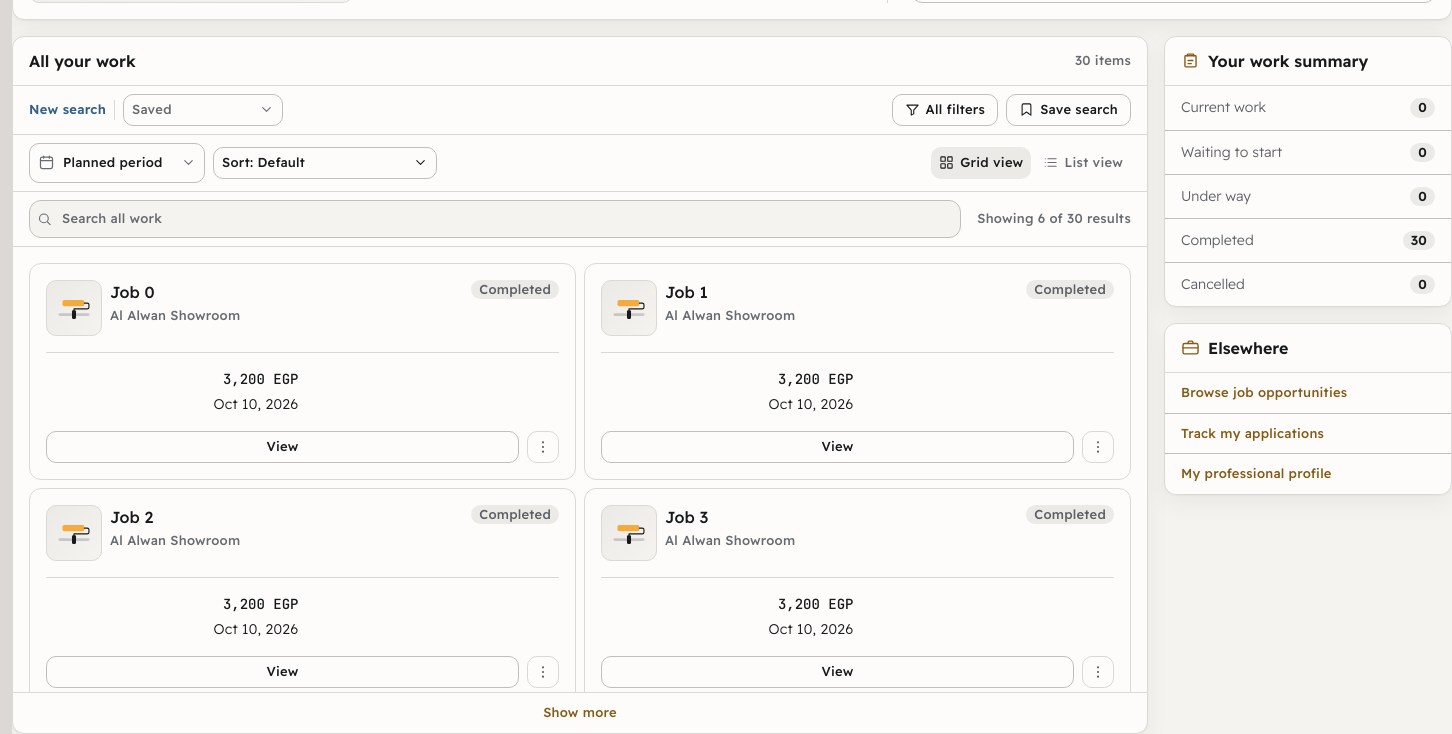
production My Work — one approved presentation, only real capabilities › REAL paged append — the next page of the same question, loaded and appended › Show less drops the last appended page, and is absent at the first page
This screenshot has width=1452, height=734.
(page scrolled)
Click the button "Show more" at (580, 713), box [13,693,1147,733]
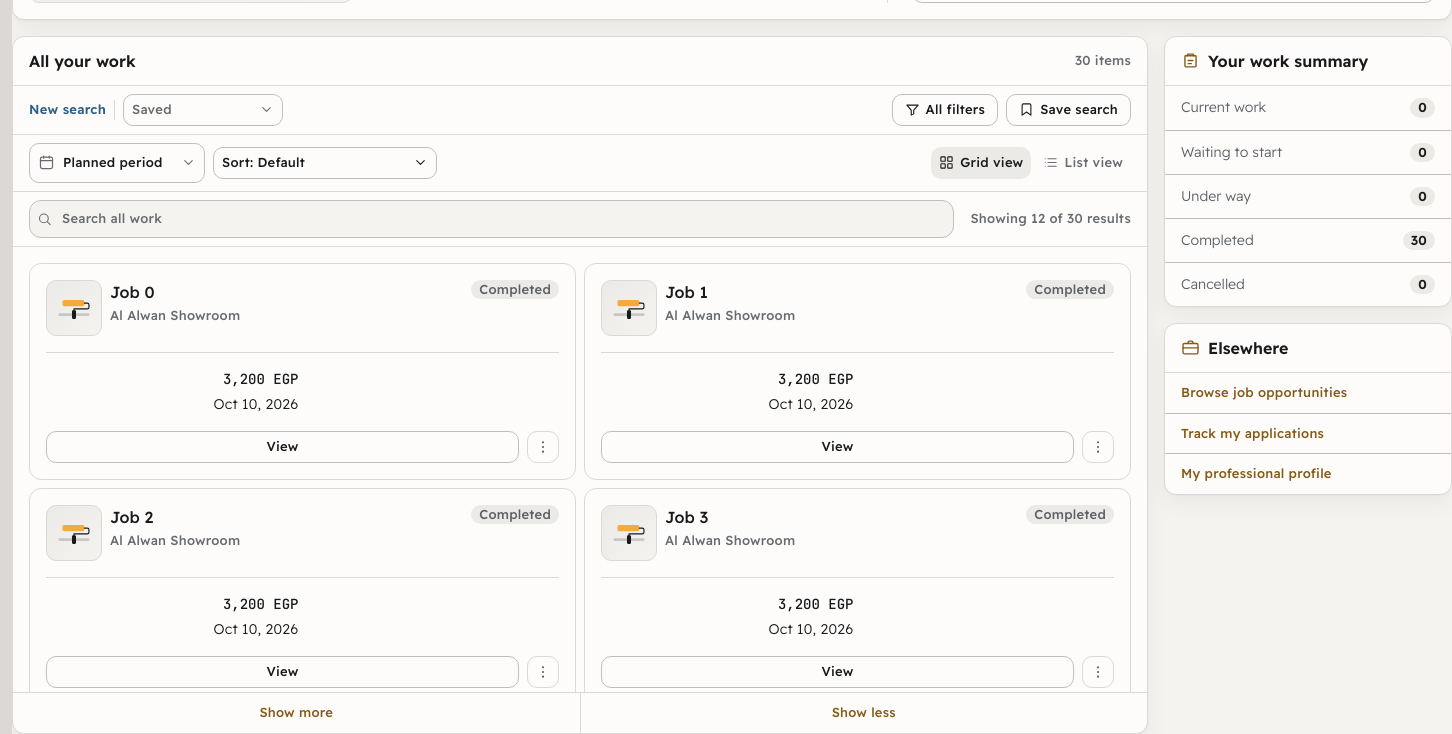
Click the button "Show more" at (296, 713), box [13,693,580,733]
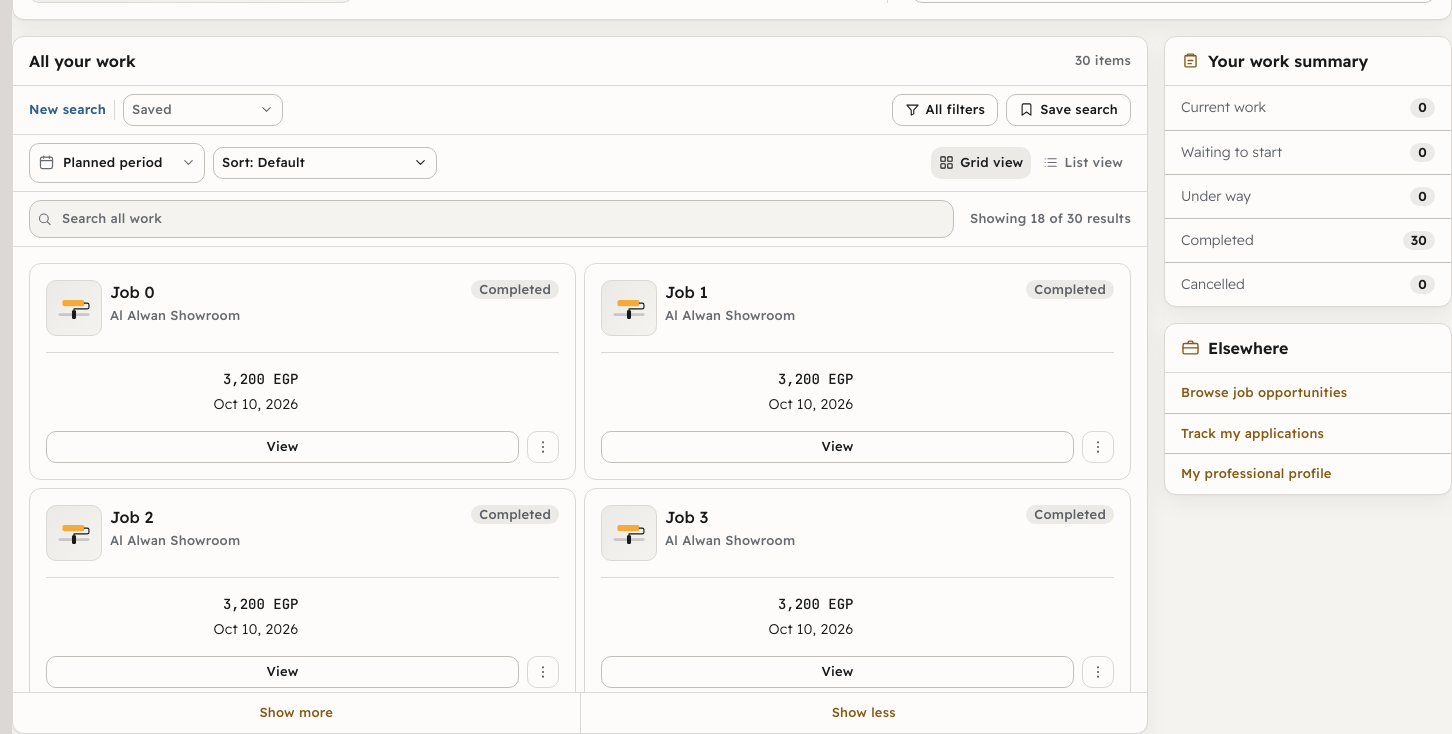
Click the button "Show less" at (863, 713), box [580,693,1147,733]
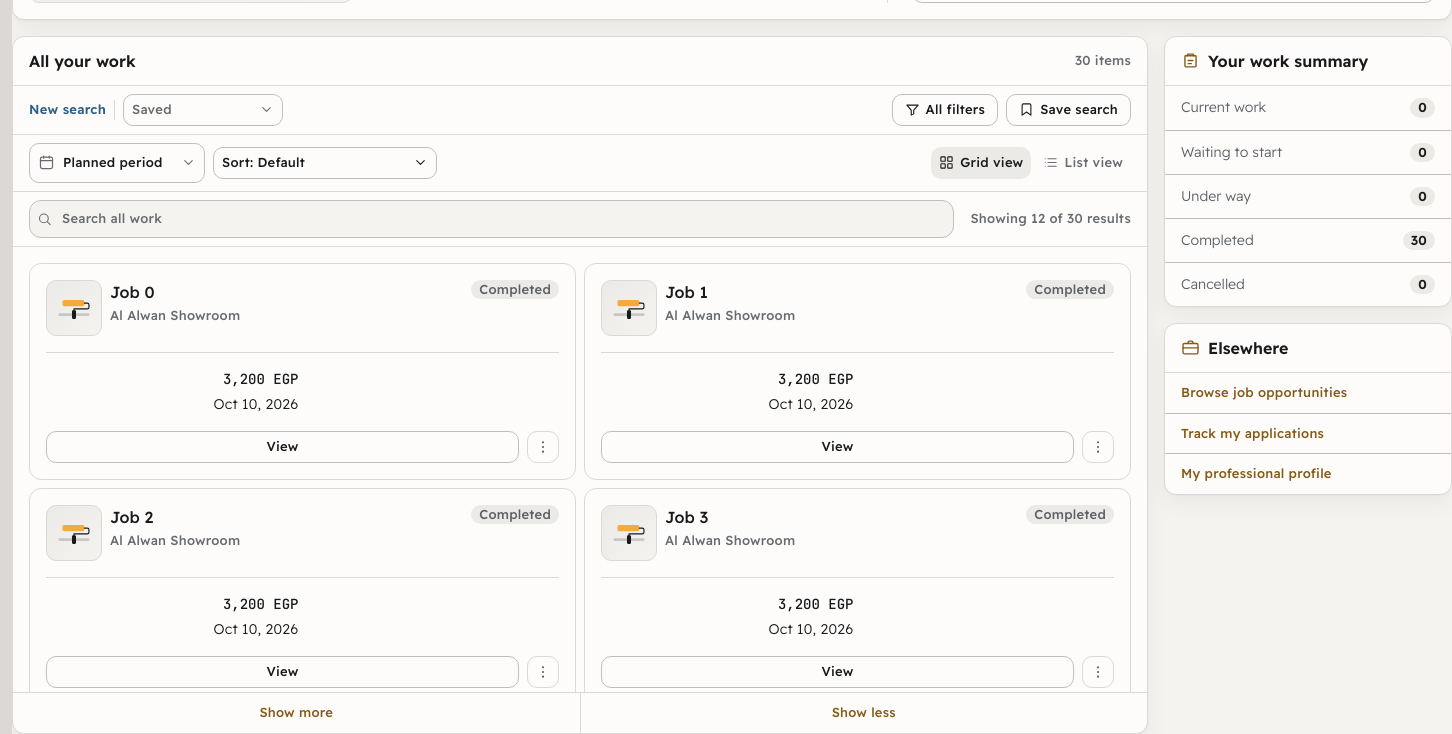
Click the button "Show less" at (863, 713), box [580,693,1147,733]
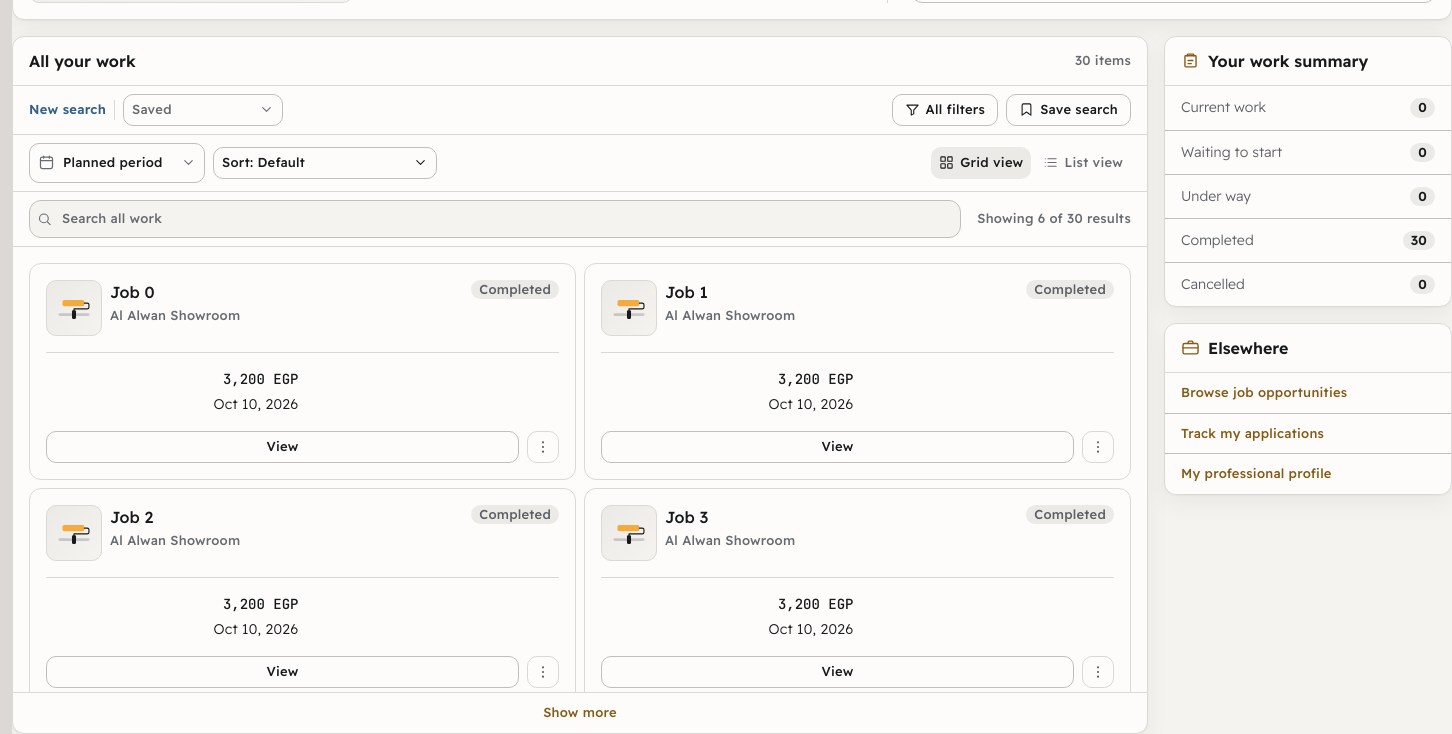
Expected: the button "Show less" is gone
